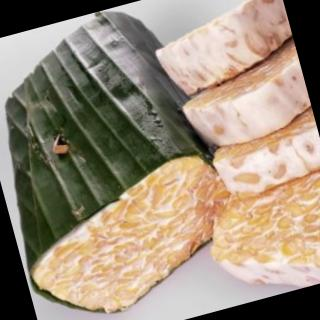Tempe: (1, 1, 251, 320)
